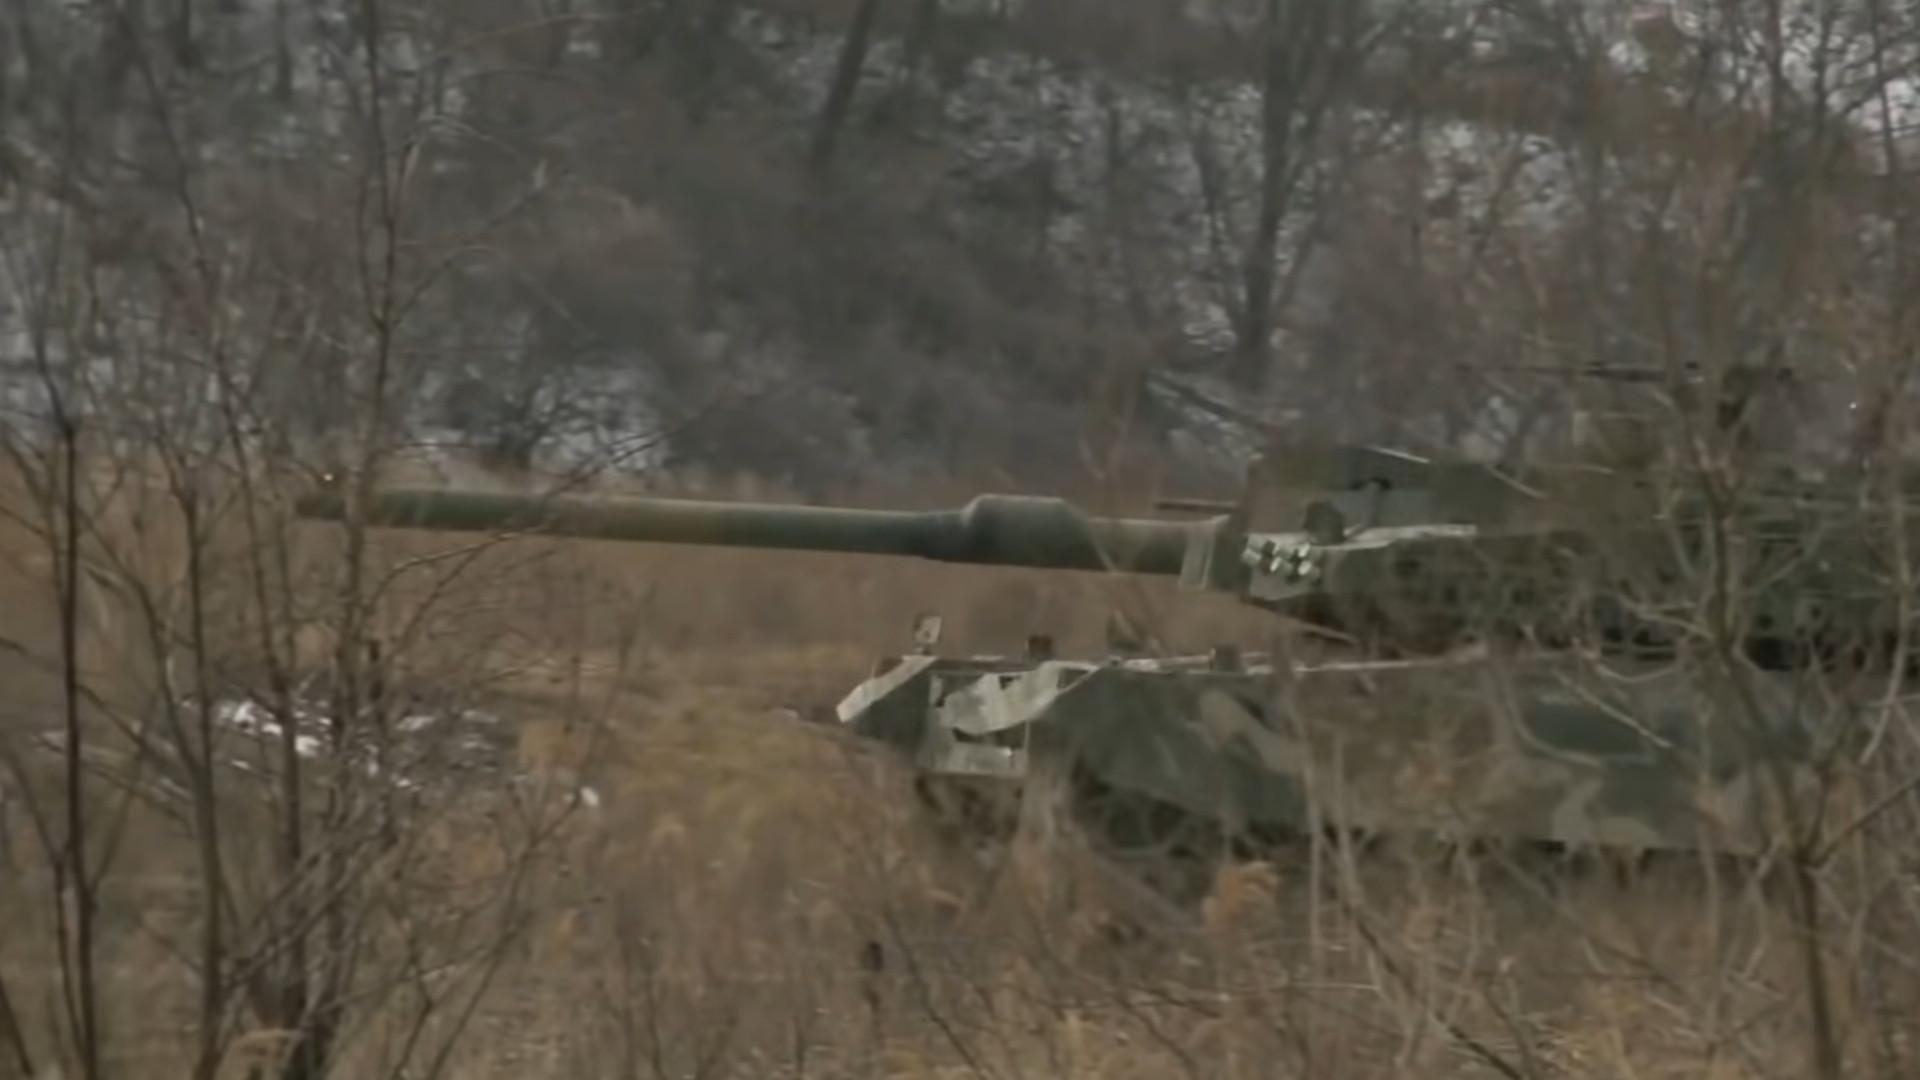tank: (297, 407, 1919, 927)
